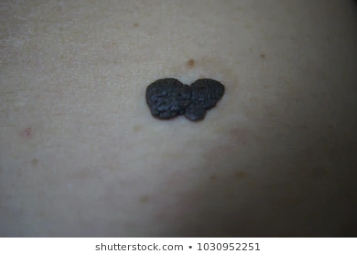seborrheic keratosis: (132, 73, 231, 129)
